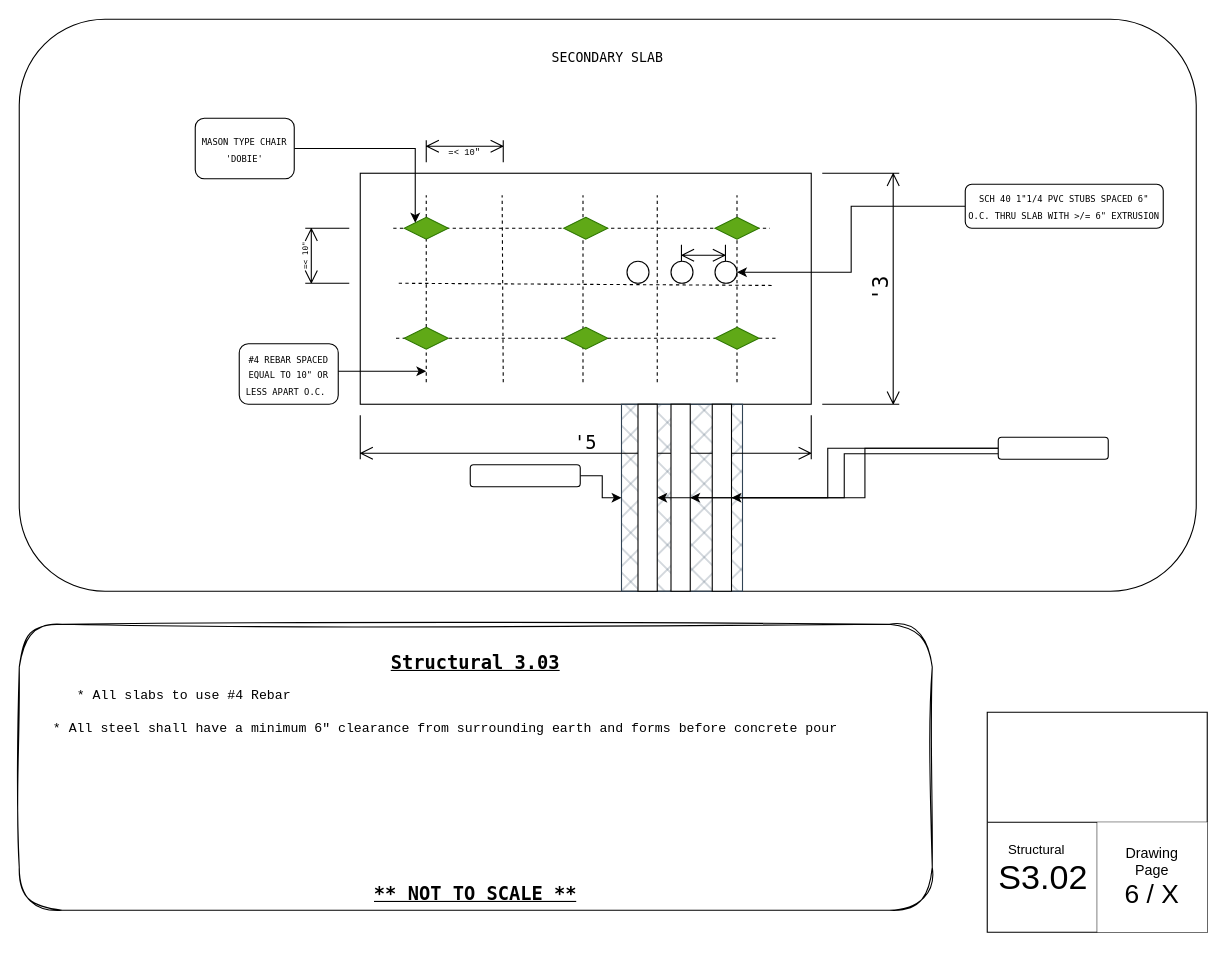
The diagram is 1227 pixels wide and 953 high, and some of its shapes have lost their labels. The box of each missing label's shape, as (x1, y1, x2, y2) in pixels:
6" O.C.: (680, 244, 725, 261)
CMU POOL Cruz Wootten 17575 Parrot Drive Reno, Nevada 775.501.4398: (986, 711, 1207, 932)
MAIN TRENCH: (469, 464, 580, 487)
SCH 40 1 1/4 PVC: (997, 436, 1108, 459)
